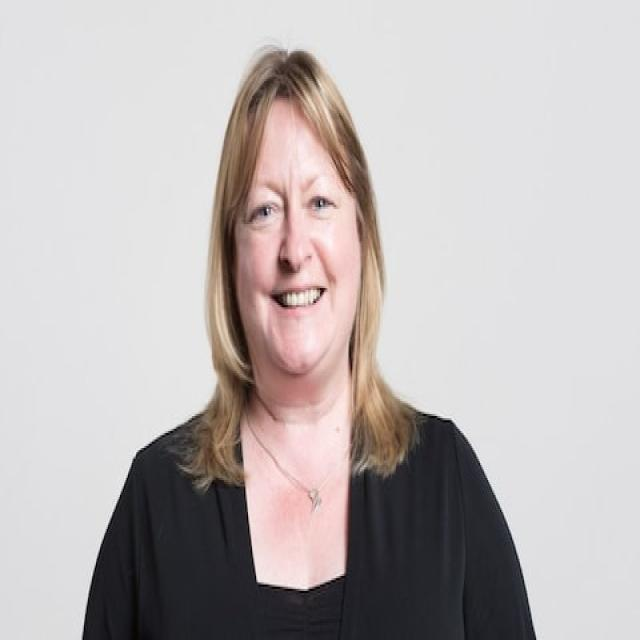mobile_phonerotation: (80, 42, 537, 636)
